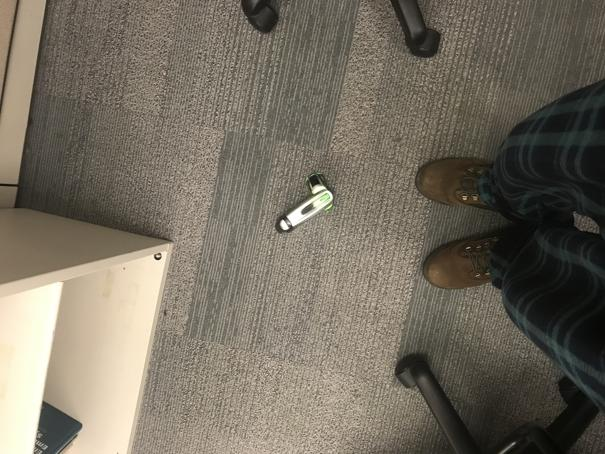Freewheel: (274, 172, 336, 232)
